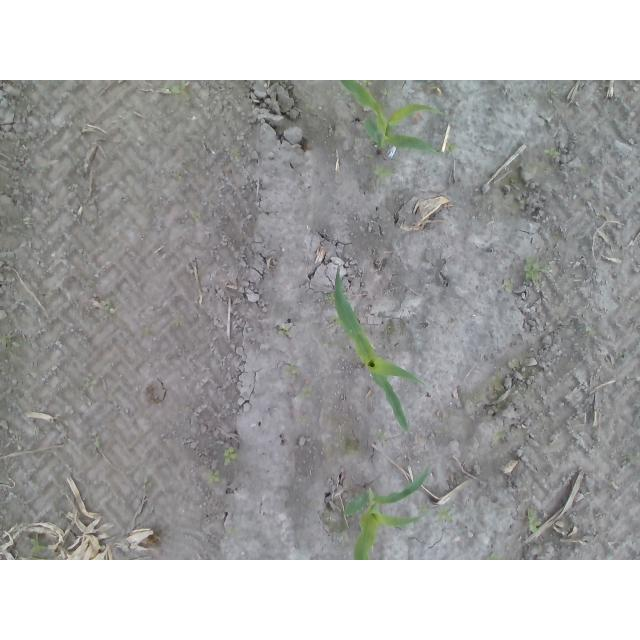Maize: (333, 267, 424, 436), (339, 80, 447, 156), (344, 465, 430, 560)
Weeds: (524, 256, 549, 281), (373, 163, 393, 186), (166, 81, 190, 100), (527, 509, 542, 536), (1, 332, 19, 349), (30, 538, 47, 555), (437, 506, 453, 523), (223, 446, 238, 464), (90, 429, 102, 449), (284, 361, 297, 377), (207, 469, 221, 483), (101, 298, 115, 312), (188, 210, 201, 223), (378, 431, 389, 446), (544, 148, 561, 157), (142, 477, 153, 490), (84, 377, 97, 388), (493, 430, 504, 443), (278, 325, 291, 336), (300, 387, 312, 398), (324, 293, 336, 304), (446, 142, 457, 154), (505, 280, 515, 293), (627, 452, 640, 461), (486, 553, 501, 560), (226, 526, 239, 534), (418, 503, 428, 513), (138, 326, 150, 334), (231, 148, 239, 160), (585, 326, 595, 335), (332, 316, 341, 325), (173, 170, 183, 178), (547, 86, 557, 94), (362, 80, 373, 86), (384, 90, 392, 98), (174, 319, 182, 326), (514, 387, 523, 393), (304, 103, 312, 109), (75, 157, 81, 164)
